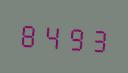eight: (18, 16, 39, 51)
four: (40, 18, 61, 52)
nine: (62, 19, 83, 54)
three: (84, 21, 105, 55)
